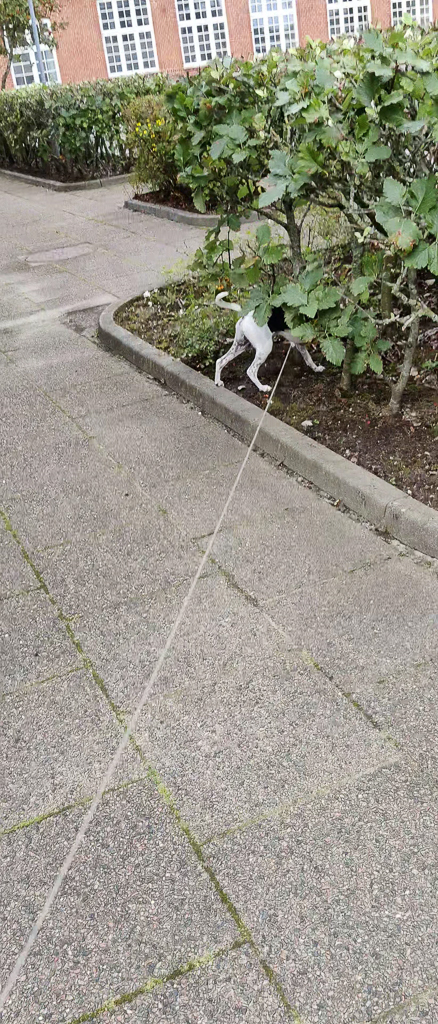Dog: (210, 286, 343, 397)
